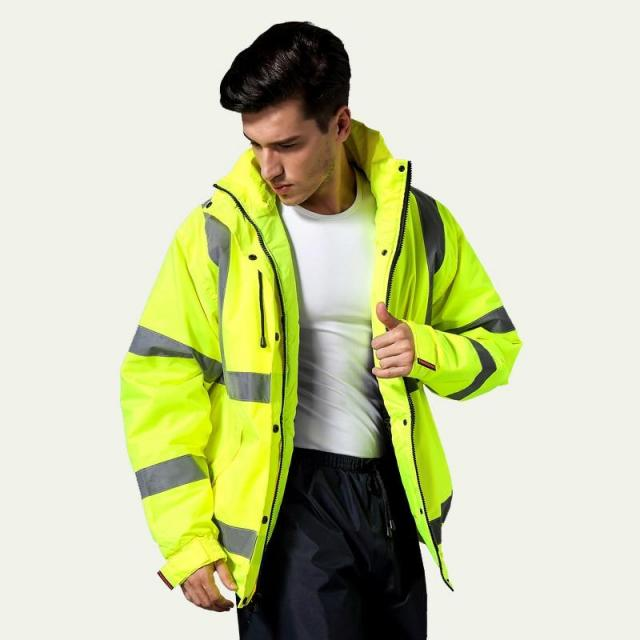Reflective-Jacket: (105, 153, 509, 639)
